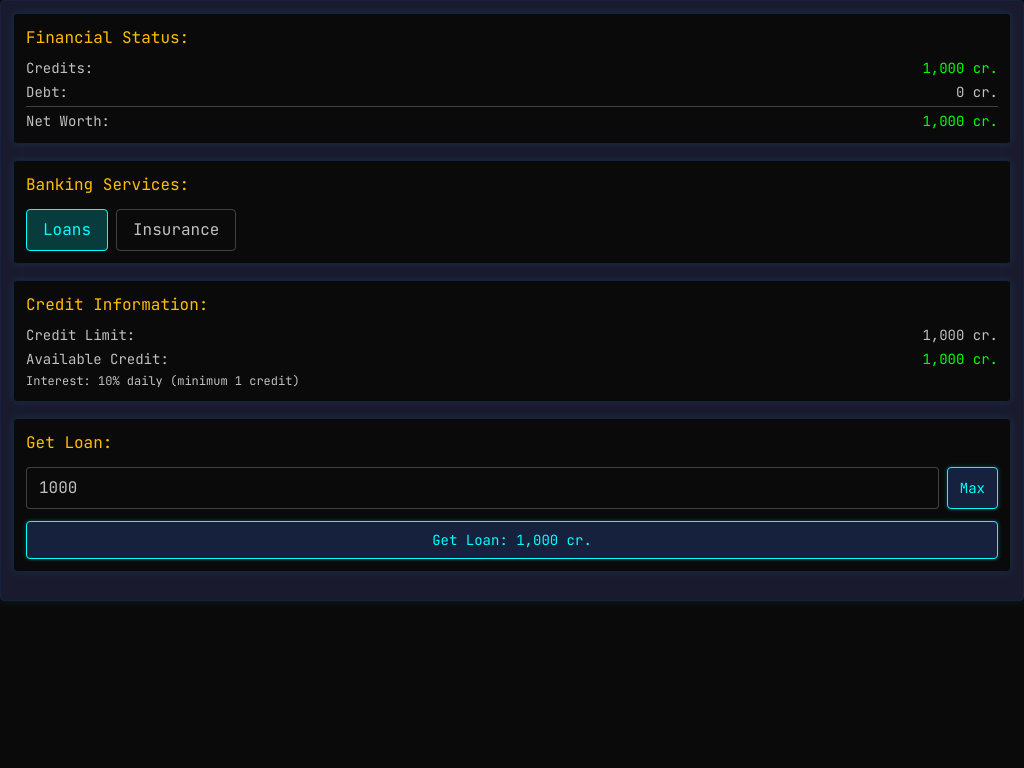
Scenario: BankScreen › Tab Navigation › switches back to loans tab when clicked
The width and height of the screenshot is (1024, 768).
Switch to insurance first
What coordinates should you click on to do the following:
click the button with test id "insurance-tab"
I would click on:
 (176, 230)
Its box is x1=116 y1=209 x2=236 y2=251.
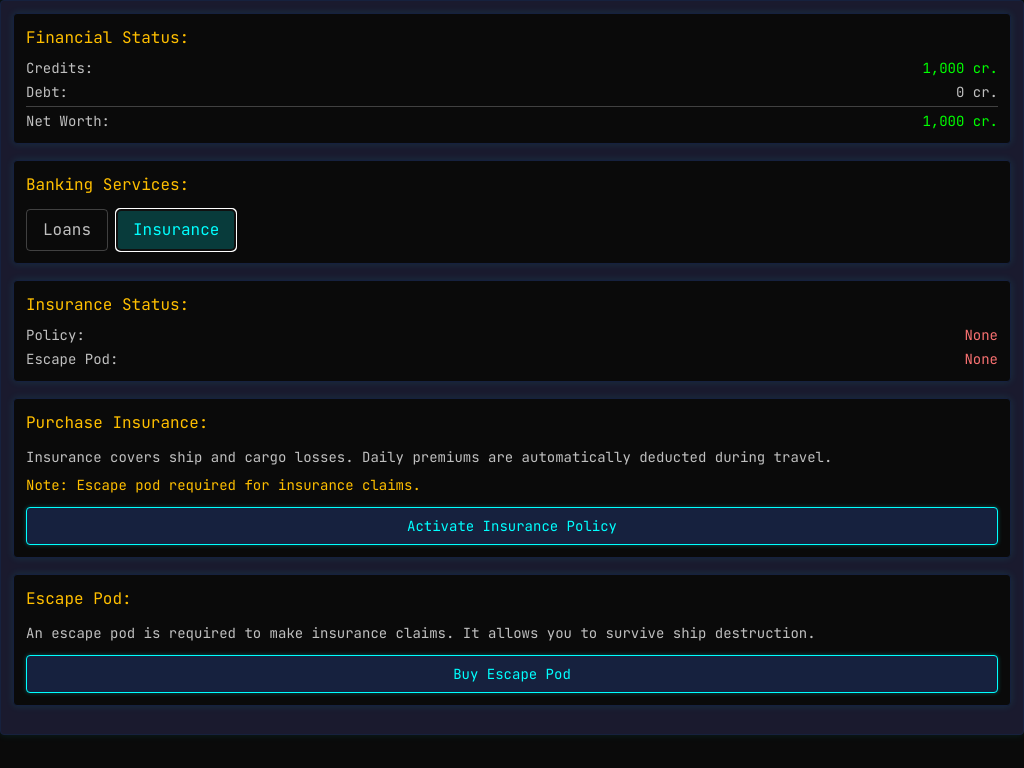
Then back to loans
What coordinates should you click on to do the following:
click the button with test id "loans-tab"
I would click on:
 (67, 230)
Its box is x1=26 y1=209 x2=108 y2=251.
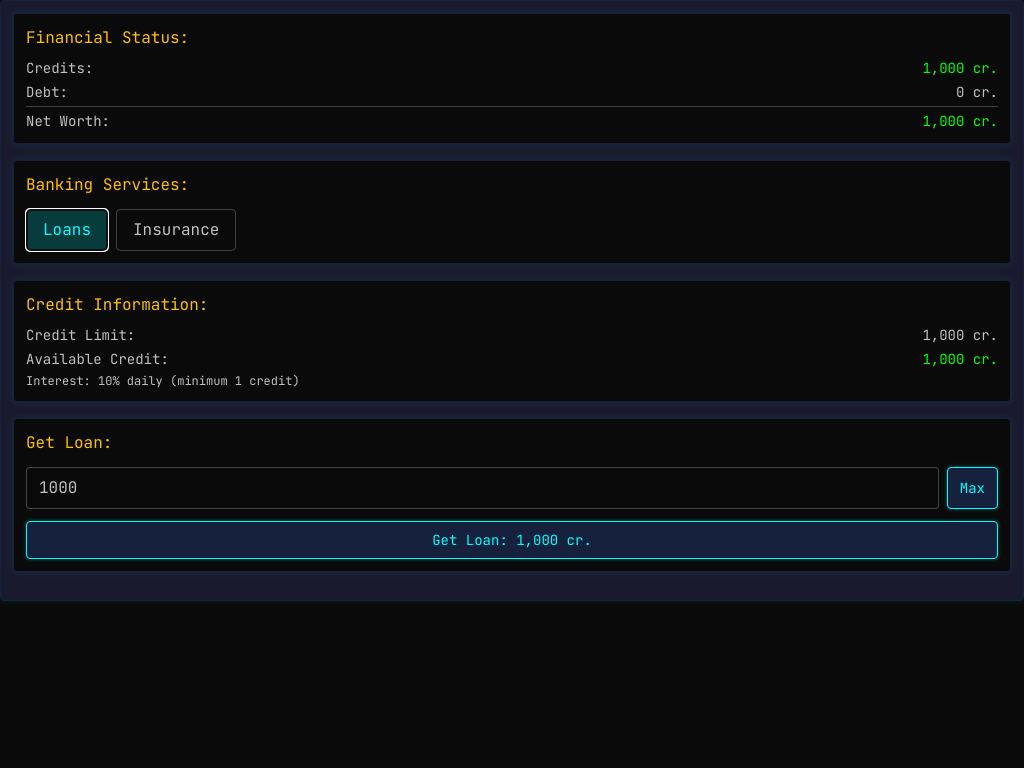
Expected: the element with test id "loan-information" is shown, x1=13 y1=280 x2=1011 y2=402
